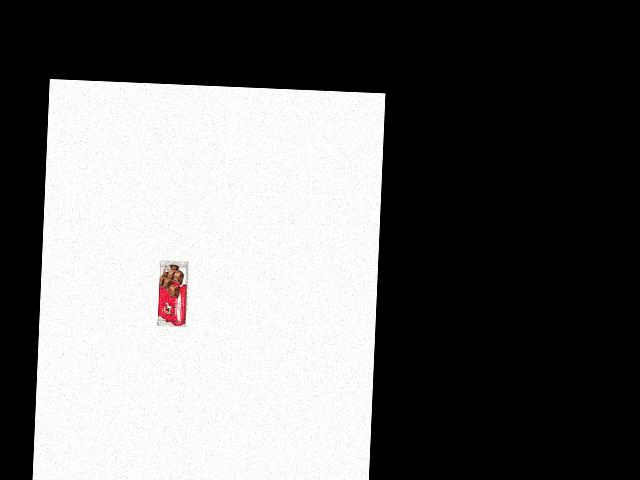chocolate: (160, 259, 204, 338)
